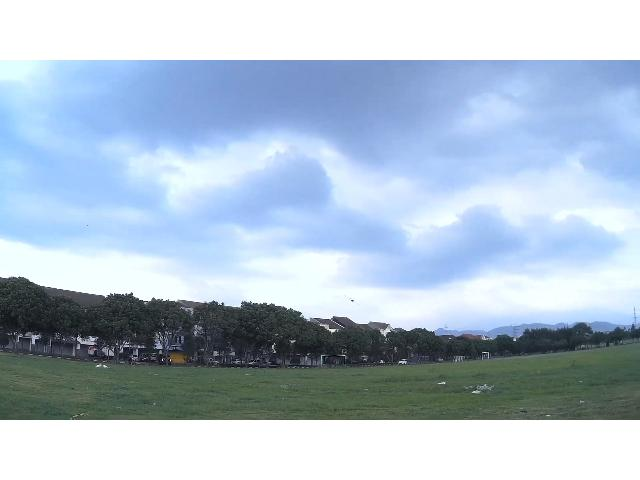Anti-Drone: (342, 295, 360, 305)
